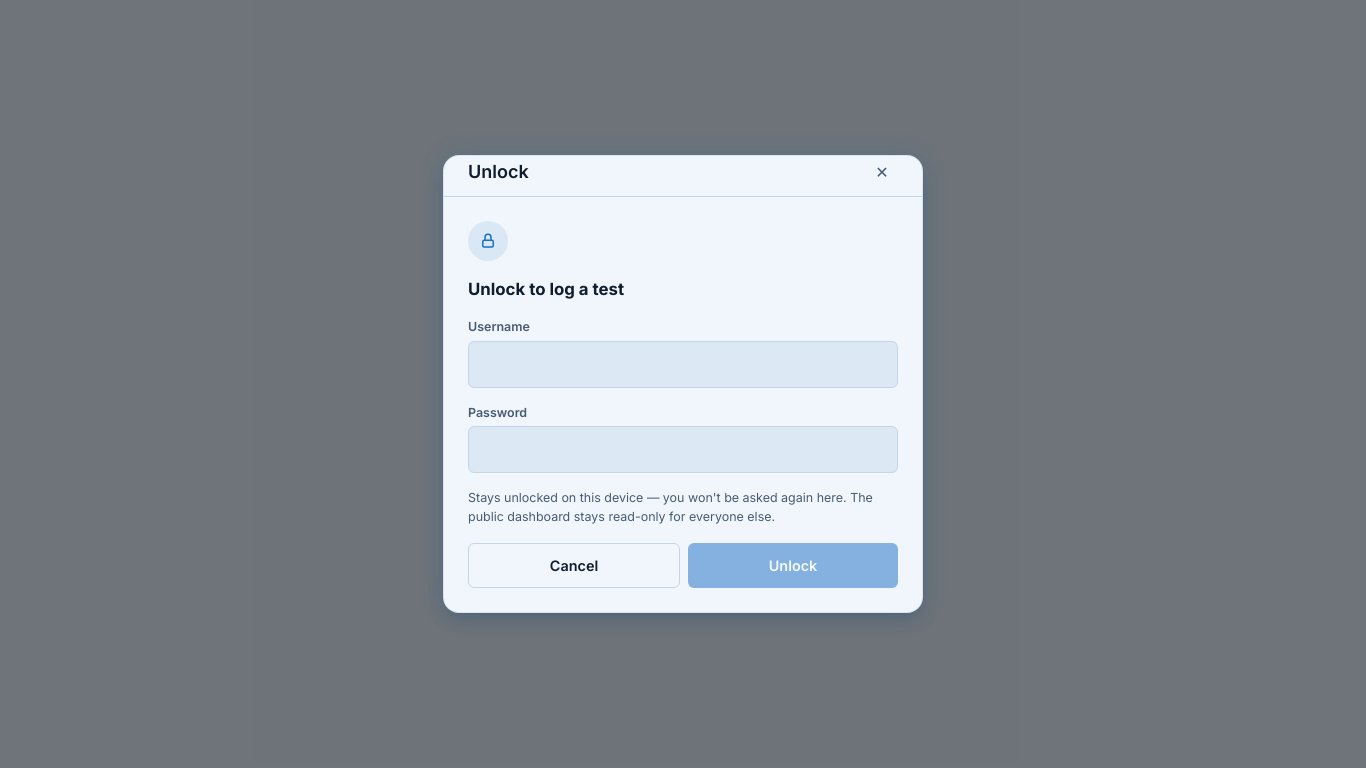
it: LogTestFlow › shows an inline error on 401
Type "alice" into the field labelled "Username" at (683, 364), box [468, 341, 898, 388]
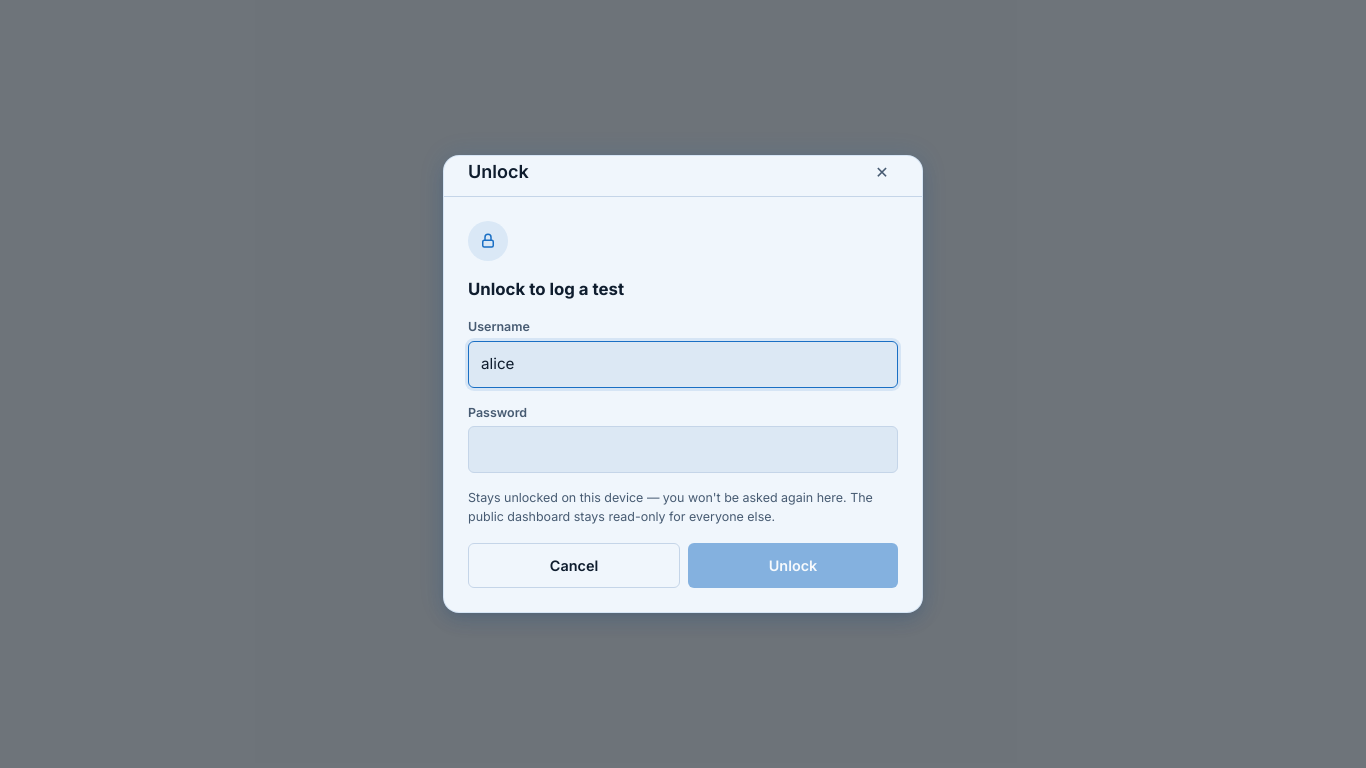
Type "wrong" into the password field labelled "Password" at (683, 450), box [468, 426, 898, 473]
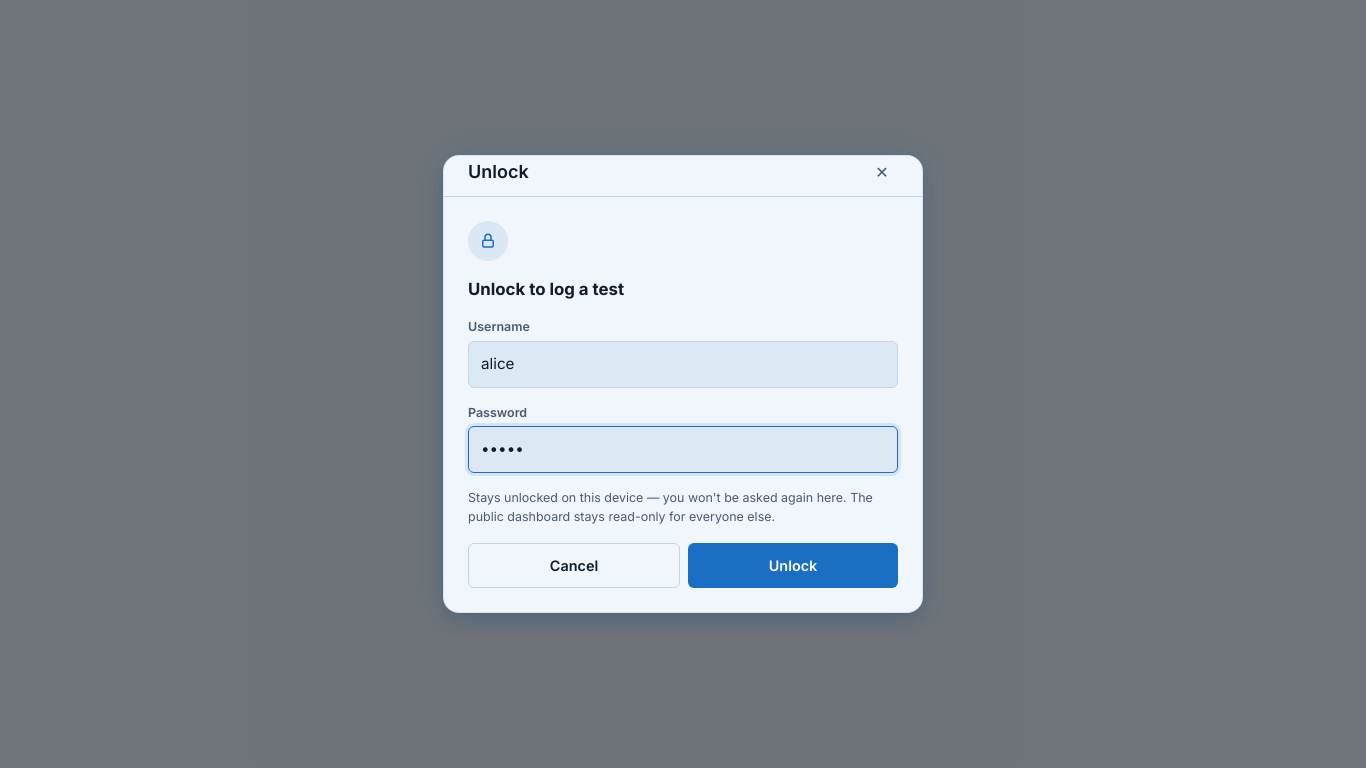
Click the button "Unlock" at (793, 565), box [688, 542, 898, 588]
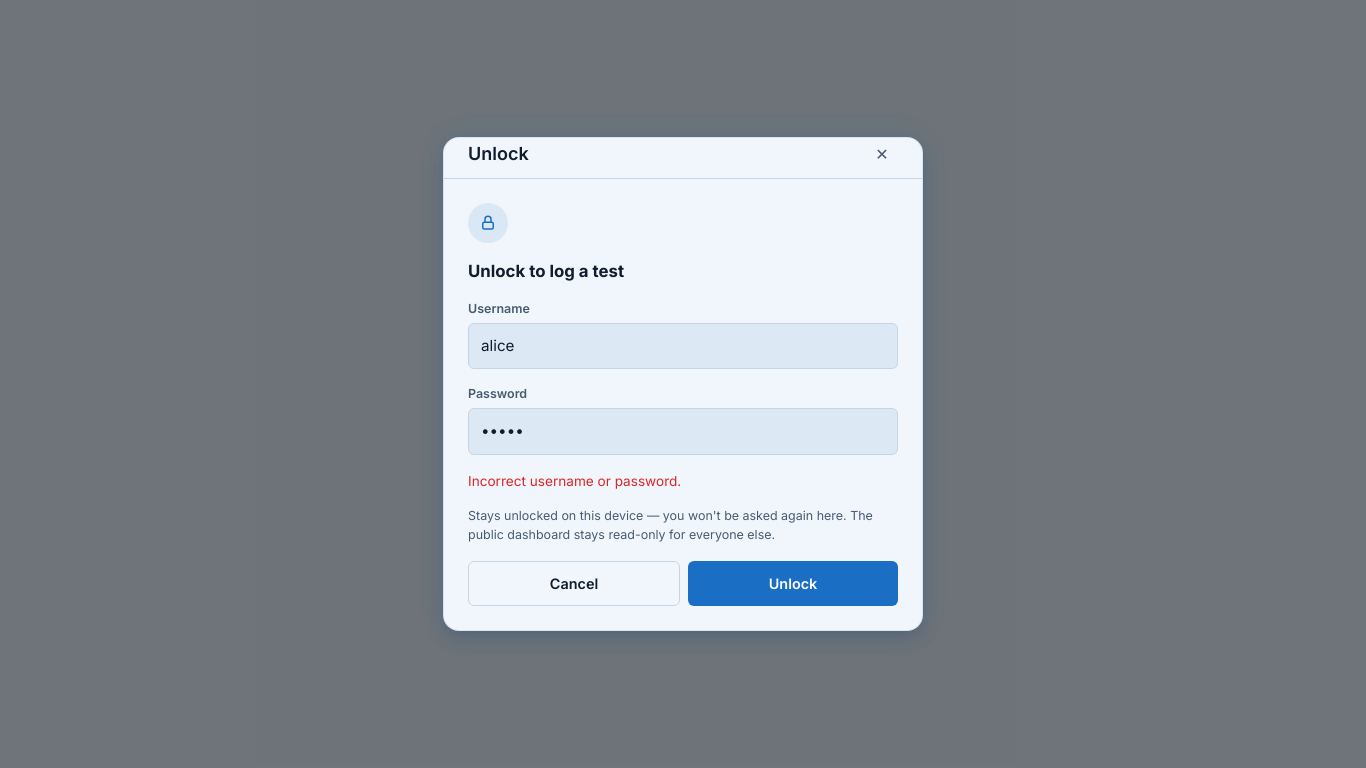
Check: the text "Incorrect username or password." is shown, box [468, 473, 681, 489]
